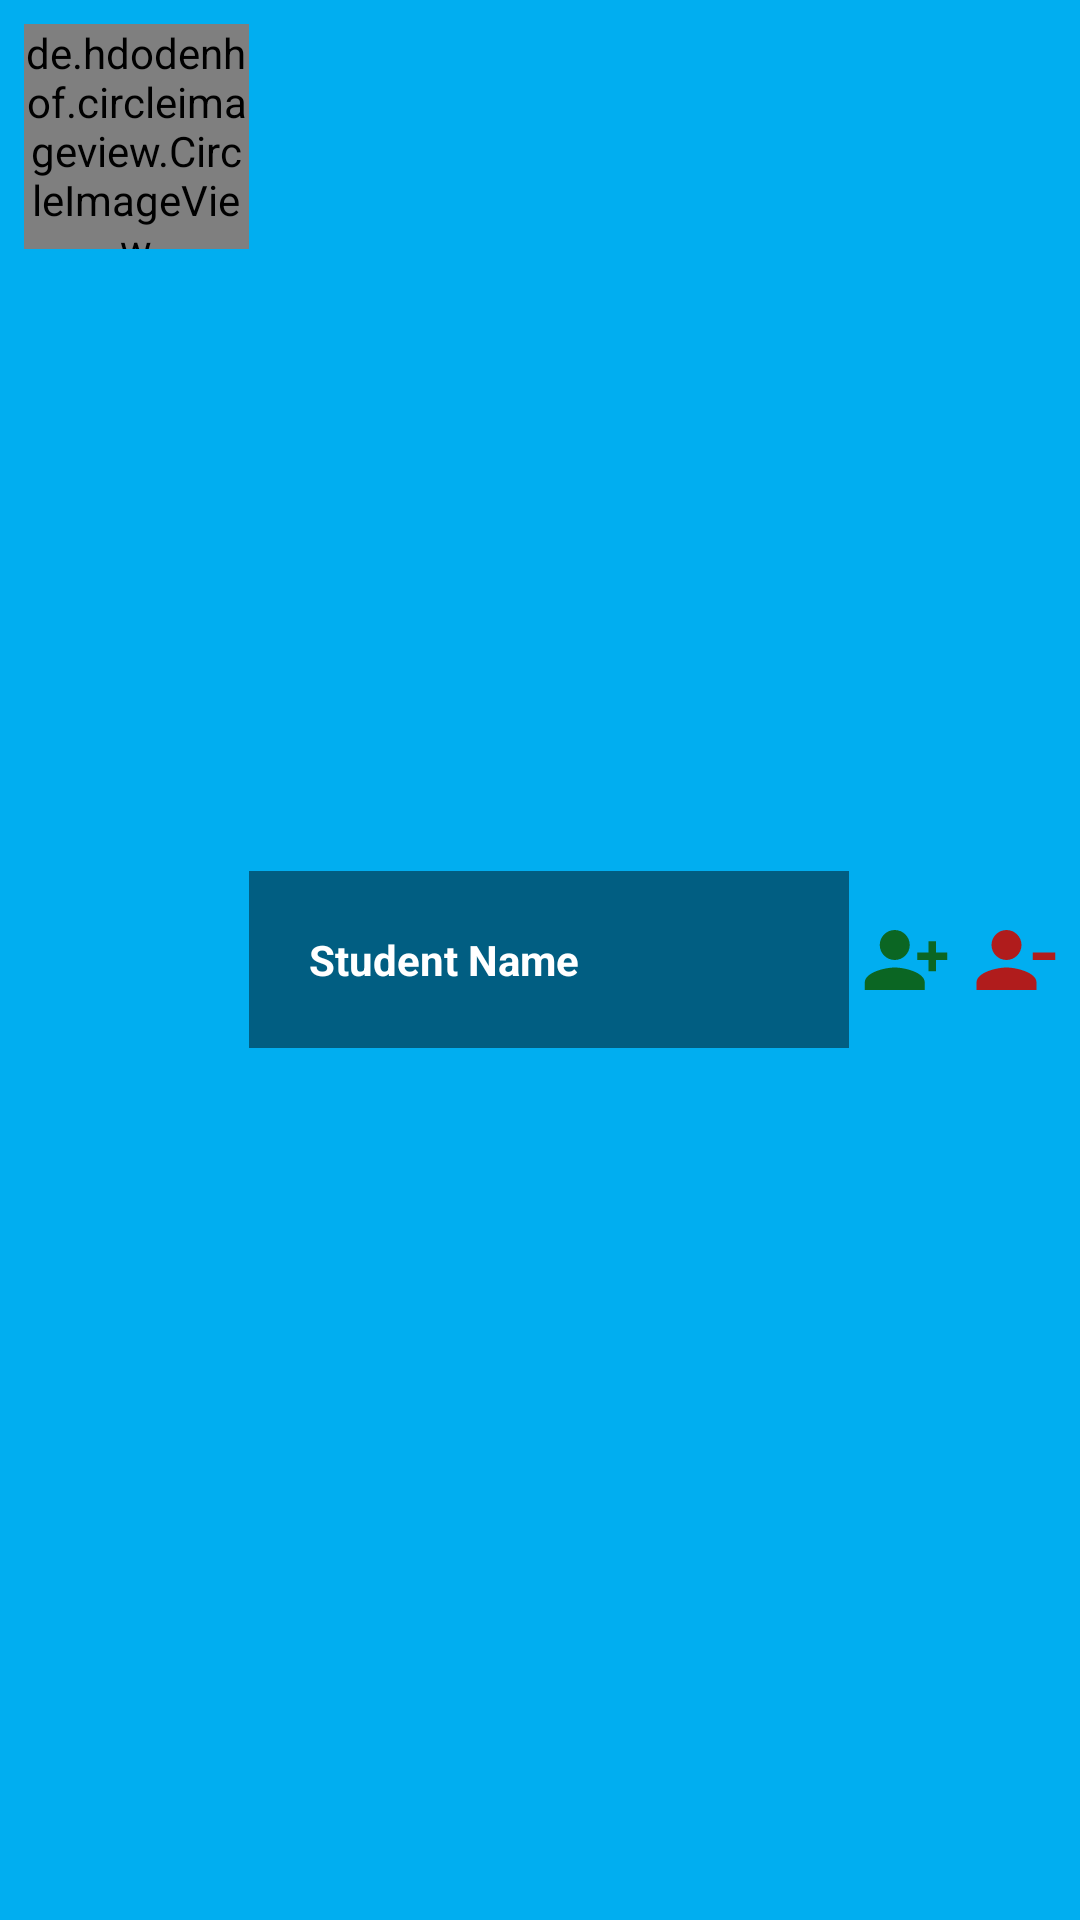

Screen size 1080x1920. Icon name, then its box in pixels as (x1, y1, x2, y2):
person remove: (976, 930, 1056, 990)
request: (864, 930, 948, 990)
